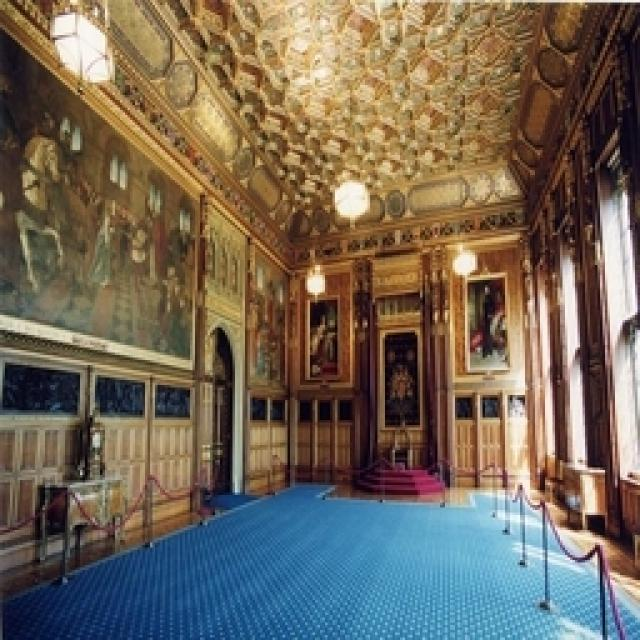Abbey: (1, 19, 629, 574)
